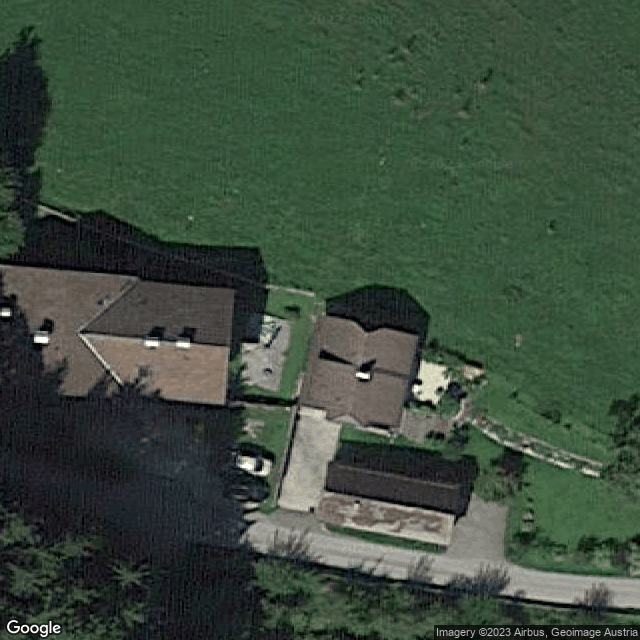hip: (333, 414, 364, 427), (355, 323, 384, 336)
obstacles: (355, 369, 372, 380), (177, 337, 192, 349), (34, 331, 49, 343), (146, 337, 160, 347), (1, 308, 12, 316), (353, 502, 361, 510)
ridge: (324, 494, 453, 517), (81, 335, 230, 350), (351, 335, 368, 414), (57, 272, 66, 396)
roof: (1, 265, 234, 404), (298, 317, 419, 427), (317, 461, 459, 545)
valley: (78, 334, 129, 397), (81, 281, 140, 333), (79, 332, 128, 394), (80, 281, 138, 333)
